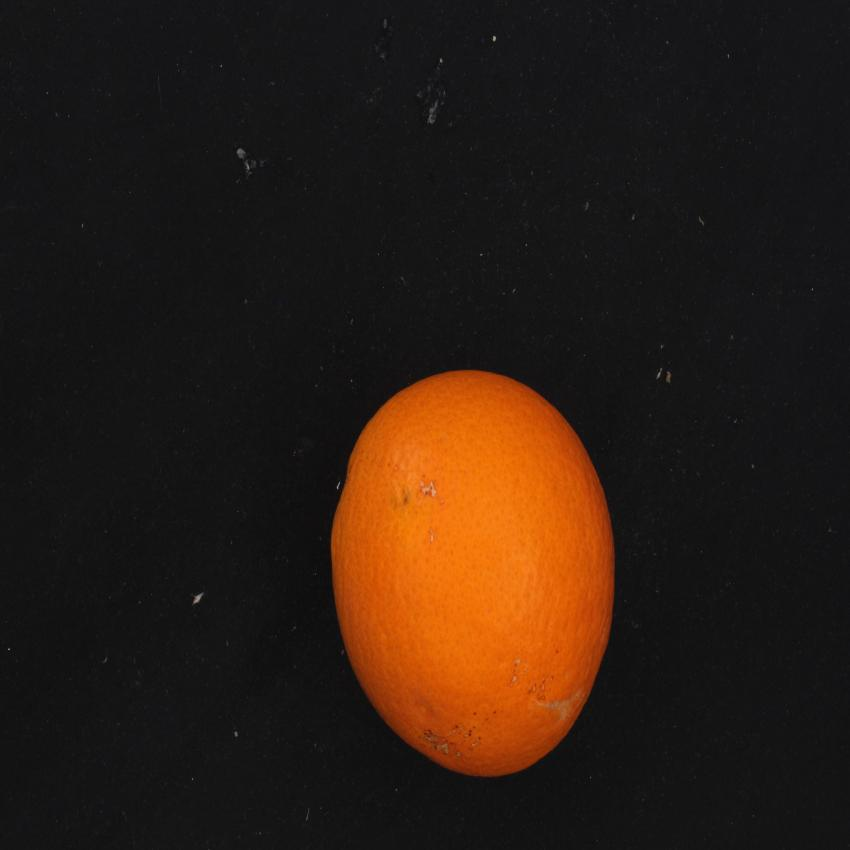Buen estado: (319, 360, 626, 795)
